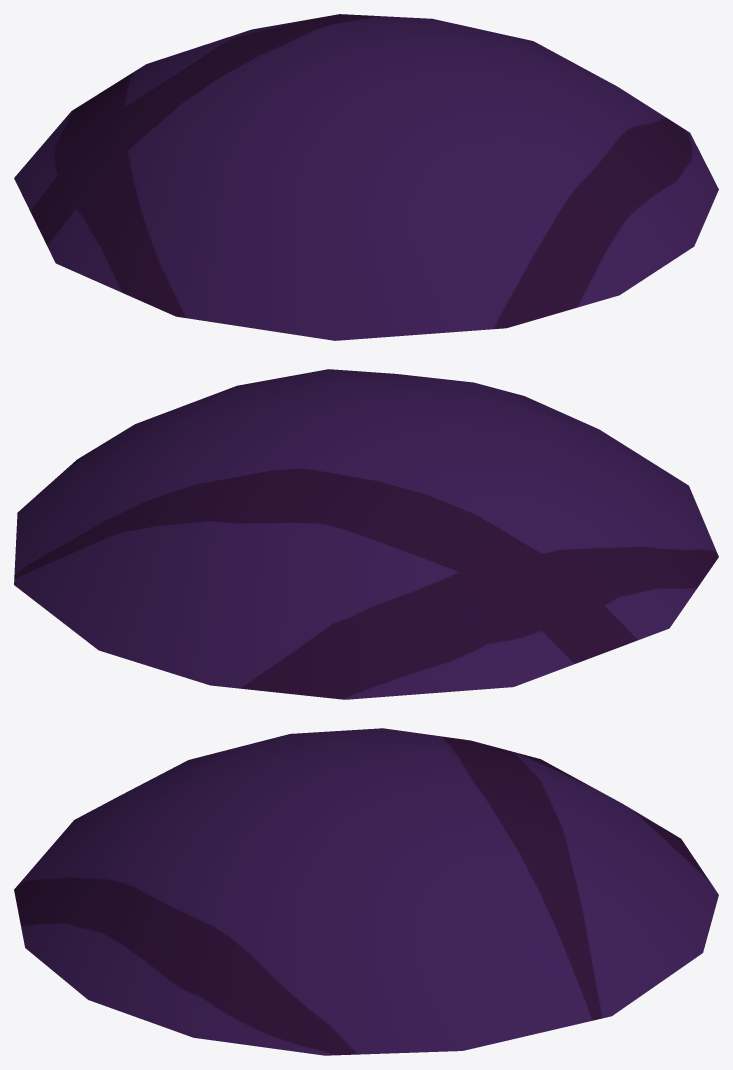
The model's file is Isle_Small.glb.
The picture shows the model from 3 angles, top to bottom: view 1: azimuth 30°, elevation 25°; view 2: azimuth 150°, elevation 25°; view 3: azimuth 270°, elevation 25°; orthographic projection.
Parts seen in each view (by area): view 1: Isle_Small.002; view 2: Isle_Small.002; view 3: Isle_Small.002.
Boxes of the visible parts, bbox=[...] form: Isle_Small.002: bbox=[14, 14, 718, 340]; Isle_Small.002: bbox=[14, 369, 718, 699]; Isle_Small.002: bbox=[14, 728, 718, 1055].
Size of the model in its own units: 34.52 by 7.12 by 34.33.
Materials: 1 (1 with a texture image).
